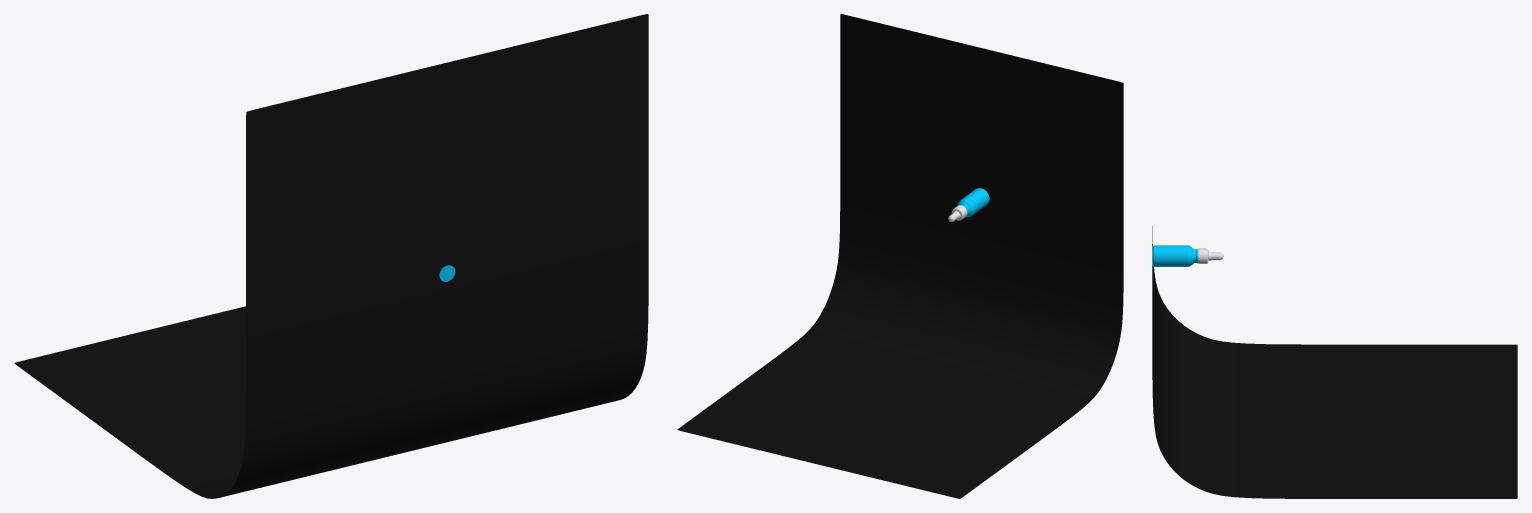
The model's file is bottle.fbx.
3 renders of one model, left to right at view 1: azimuth 30°, elevation 25°; view 2: azimuth 150°, elevation 25°; view 3: azimuth 270°, elevation 25°, orthographic. The views are drawn at different scales.
Visible parts, largest first — view 1: Plane; view 2: Plane, b; view 3: Plane, b.
Part boxes in pixels (x1,y1,x2,y2): Plane: [14, 14, 648, 498]; Plane: [677, 14, 1123, 498]; b: [957, 188, 989, 217]; Plane: [1152, 226, 1517, 498]; b: [1152, 245, 1198, 266].
Bounding box in the file's own units: 2000 × 2000 × 2000.
